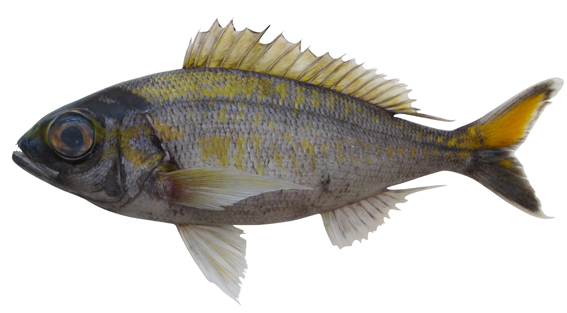fish: (12, 17, 564, 304)
